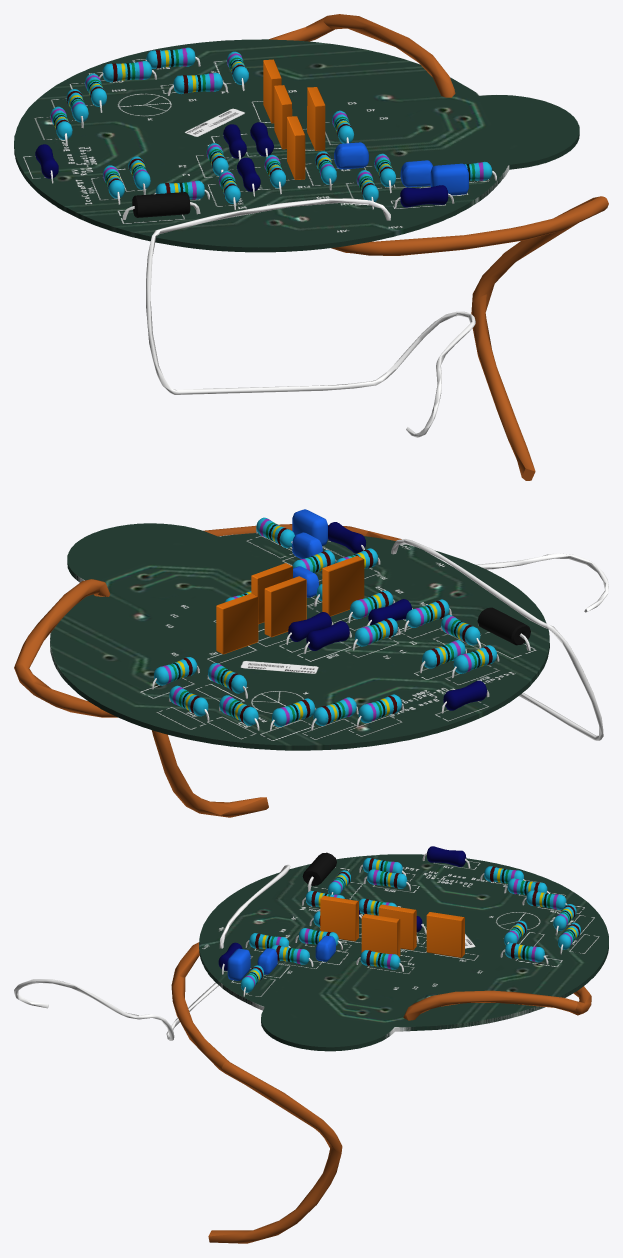
Rendered from s1DOM_Top_Board.obj.
3 renders of one model, top to bottom at view 1: azimuth 30°, elevation 25°; view 2: azimuth 150°, elevation 25°; view 3: azimuth 270°, elevation 25°, orthographic. The views are drawn at different scales.
Parts seen in each view (by area): view 1: _A_Top_Board_Import_, thick_orange_wire, thin_white_wire, circuit_board_cham__cylinder_part_black001, circuit_board_square_Orange004, circuit_board_square_Orange001, circuit_board_part_2_box_blue003, resistor_CLRSCME_027, resistor_CLRSCME_010, resistor_CLRSCME_009, circuit_board_square_Orange002, resistor_CLRSCME_008 (+4 smaller); view 2: _A_Top_Board_Import_, thick_orange_wire, thin_white_wire, circuit_board_square_Orange003, circuit_board_square_Orange002, circuit_board_square_Orange001, circuit_board_cham__cylinder_part_black001, circuit_board_square_Orange004, circuit_board_part_2_box_blue003, resistor_CLRSCME_023, resistor_CLRSCME_025, resistor_CLRSCME_016 (+19 smaller); view 3: _A_Top_Board_Import_, thick_orange_wire, thin_white_wire, circuit_board_square_Orange003, circuit_board_square_Orange001, circuit_board_square_Orange004, circuit_board_square_Orange002, circuit_board_cham__cylinder_part_black001, circuit_board_part_2_box_blue003, resistor_CLRSCME_023, resistor_CLRSCME_014, resistor_CLRSCME_020 (+2 smaller).
Part boxes in pixels (x1,y1,x2,y2): _A_Top_Board_Import_: [14, 39, 579, 252]; thick_orange_wire: [269, 14, 608, 480]; thin_white_wire: [146, 198, 475, 437]; circuit_board_cham__cylinder_part_black001: [132, 192, 190, 217]; circuit_board_square_Orange004: [307, 87, 325, 150]; circuit_board_square_Orange001: [287, 116, 305, 179]; circuit_board_part_2_box_blue003: [430, 163, 468, 195]; resistor_CLRSCME_027: [400, 185, 448, 207]; resistor_CLRSCME_010: [173, 72, 222, 94]; resistor_CLRSCME_009: [102, 61, 151, 82]; circuit_board_square_Orange002: [274, 85, 292, 149]; resistor_CLRSCME_008: [146, 47, 195, 68]; _A_Top_Board_Import_: [50, 523, 549, 750]; thick_orange_wire: [14, 524, 401, 817]; thin_white_wire: [391, 539, 608, 740]; circuit_board_square_Orange003: [216, 593, 258, 654]; circuit_board_square_Orange002: [264, 576, 306, 637]; circuit_board_square_Orange001: [322, 556, 364, 616]; circuit_board_cham__cylinder_part_black001: [477, 607, 530, 645]; circuit_board_square_Orange004: [251, 563, 292, 624]; circuit_board_part_2_box_blue003: [292, 509, 327, 545]; resistor_CLRSCME_023: [443, 680, 487, 710]; resistor_CLRSCME_025: [306, 621, 349, 650]; resistor_CLRSCME_016: [358, 694, 401, 723]; _A_Top_Board_Import_: [199, 854, 608, 1051]; thick_orange_wire: [171, 942, 591, 1243]; thin_white_wire: [14, 864, 290, 1040]; circuit_board_square_Orange003: [426, 912, 464, 957]; circuit_board_square_Orange001: [320, 895, 358, 941]; circuit_board_square_Orange004: [361, 914, 400, 956]; circuit_board_square_Orange002: [378, 904, 416, 950]; circuit_board_cham__cylinder_part_black001: [302, 852, 336, 885]; circuit_board_part_2_box_blue003: [227, 948, 250, 980]; resistor_CLRSCME_023: [427, 846, 466, 866]; resistor_CLRSCME_014: [526, 890, 566, 909]; resistor_CLRSCME_020: [367, 869, 407, 888].
Bounding box in the file's own units: 0.1113 × 0.0751 × 0.1451.
